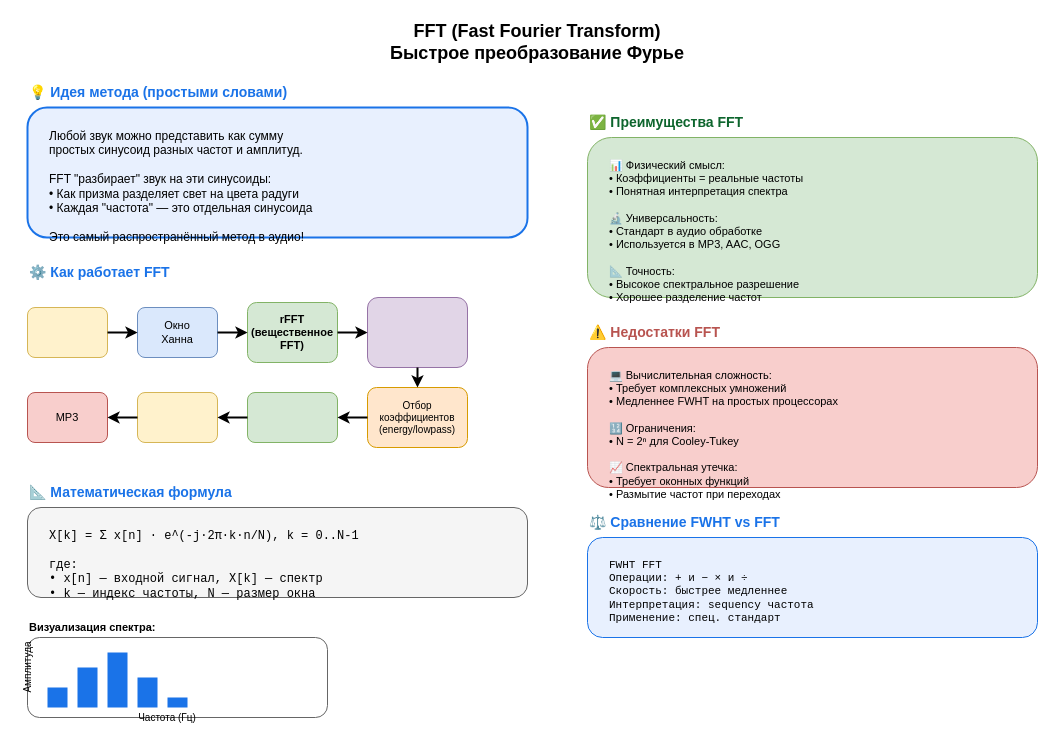
The diagram is 1055 pixels wide and 744 high, and some of its shapes have lost their labels. Here are the shapes that lost their labels. From the top down, the centre of each, then its label:
At (67,332): "Входной сигнал".
At (417,332): "Комплексный спектр (амплитуда+фаза)".
At (177,417): "Восстановленный сигнал".
At (292,417): "irFFT (обратное)".
